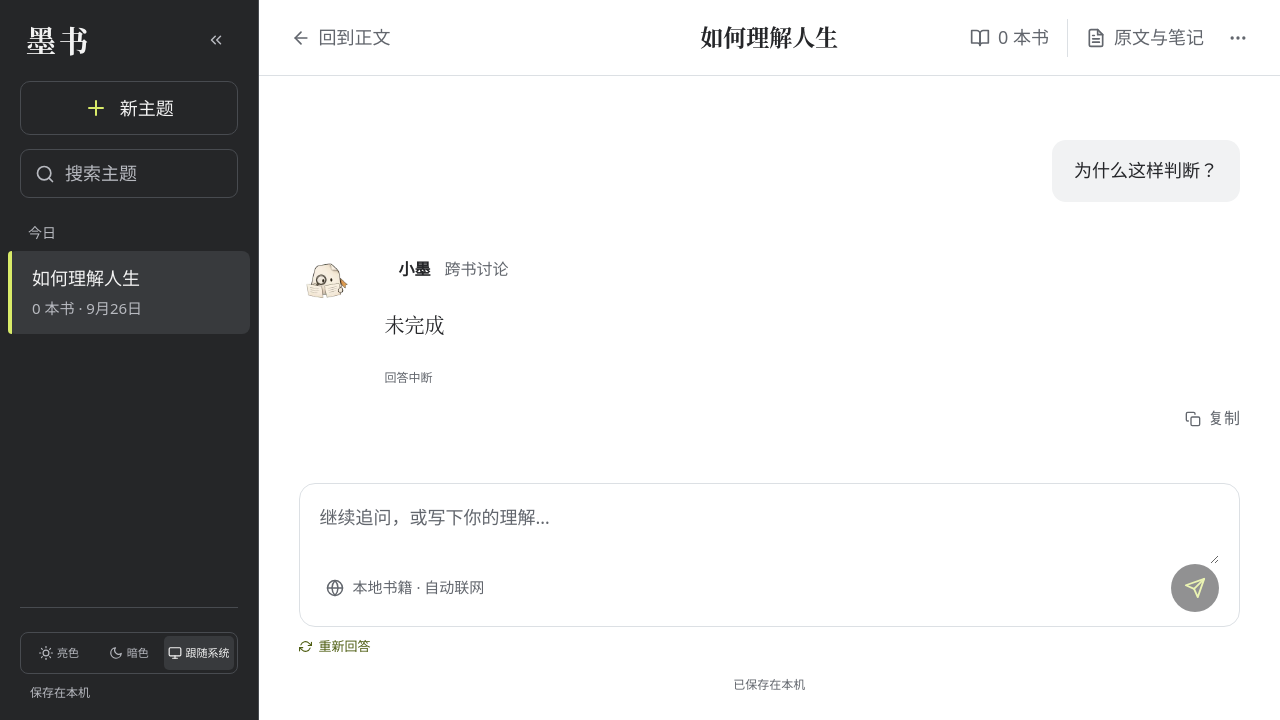
主题会话本地可靠性 › retains older stopped answers when retrying only the latest failed message
(page scrolled)
Check: the text box labelled "继续追问" is shown, box [320,502,1219,564]
Click the button "重新回答" at (334, 646), box [298,626,370,666]
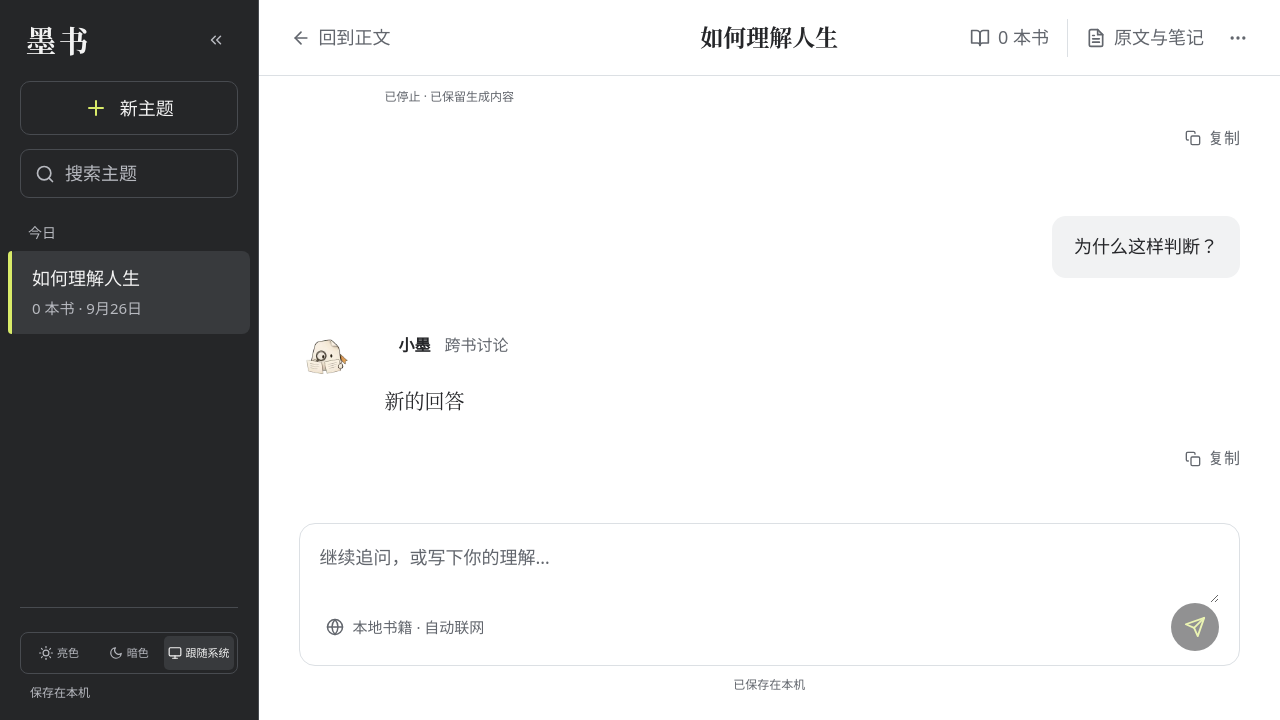
Check: the text "新的回答" is shown, box [384,386,464,415]
